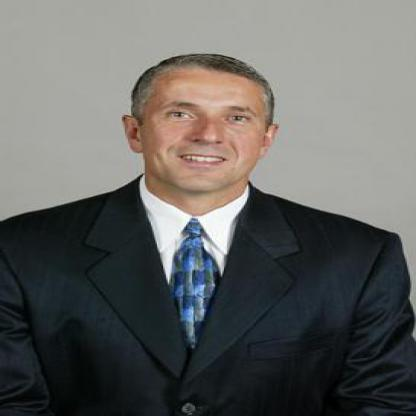face: (140, 56, 272, 193)
